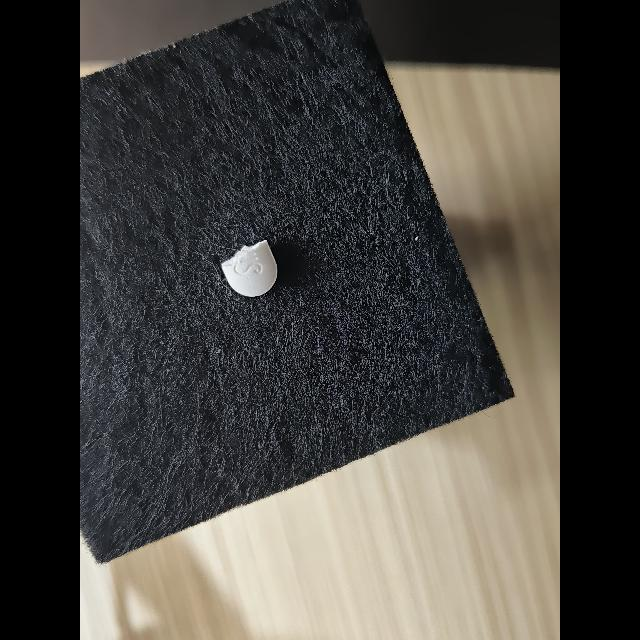Chipped Pill: (221, 240, 277, 297)
